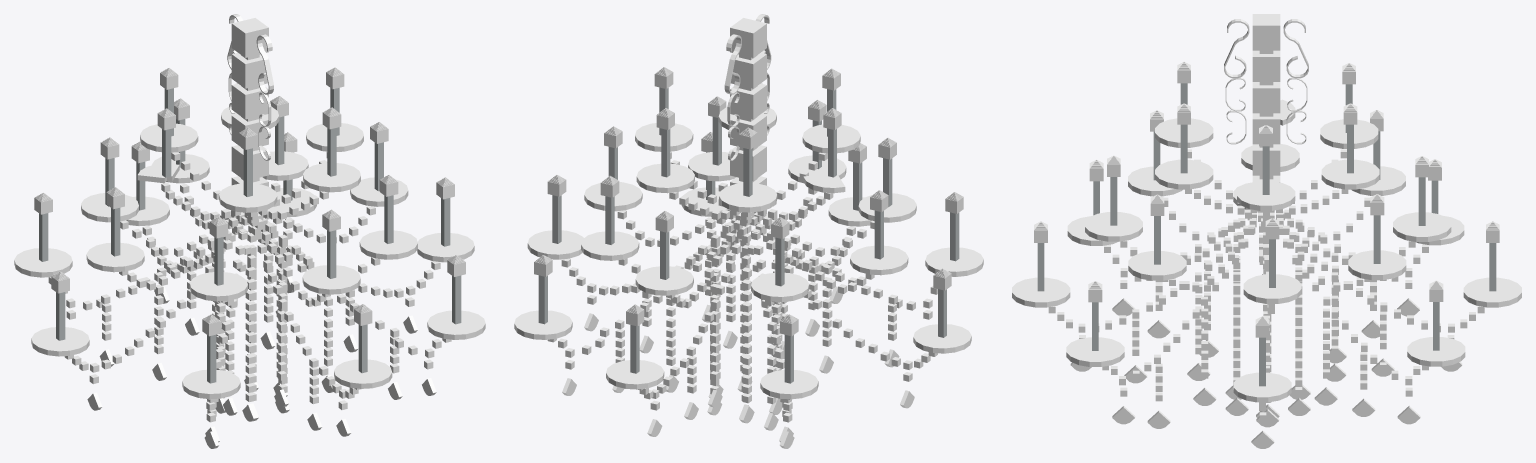
Rendered from chand_on.obj.
3 views of the same model, side by side, from view 1: azimuth 30°, elevation 25°; view 2: azimuth 150°, elevation 25°; view 3: azimuth 270°, elevation 25° (orthographic).
Parts seen in each view (by area): view 1: cube.000, cube.008, cube.001, cube, cube.009, cube.341, cube.586, cube.620, cube.654, cube.240, cube.409, cube.426 (+6 smaller); view 2: cube.000, cube.008, cube.001, cube, cube.009, cube.358, cube.535, cube.552, cube.155, cube.172, cube.307, cube.324 (+4 smaller); view 3: cube.000, cube.008, cube.001, cube, cube.009.
Boxes of the visible parts, x1=… form: cube.000: x1=231, y1=18, x2=268, y2=57; cube.008: x1=231, y1=83, x2=268, y2=119; cube.001: x1=231, y1=53, x2=267, y2=88; cube: x1=231, y1=145, x2=268, y2=179; cube.009: x1=231, y1=114, x2=268, y2=148; cube.341: x1=327, y1=230, x2=336, y2=278; cube.586: x1=39, y1=213, x2=48, y2=261; cube.620: x1=56, y1=292, x2=65, y2=340; cube.654: x1=452, y1=275, x2=461, y2=324; cube.240: x1=327, y1=128, x2=336, y2=176; cube.409: x1=214, y1=237, x2=223, y2=285; cube.426: x1=384, y1=195, x2=393, y2=243; cube.000: x1=730, y1=18, x2=766, y2=57; cube.008: x1=730, y1=83, x2=766, y2=119; cube.001: x1=731, y1=53, x2=766, y2=88; cube: x1=730, y1=145, x2=766, y2=180; cube.009: x1=730, y1=114, x2=766, y2=150; cube.358: x1=775, y1=237, x2=784, y2=286; cube.535: x1=538, y1=275, x2=547, y2=324; cube.552: x1=630, y1=325, x2=639, y2=373; cube.155: x1=661, y1=128, x2=670, y2=177; cube.172: x1=743, y1=148, x2=752, y2=196; cube.307: x1=605, y1=196, x2=614, y2=244; cube.324: x1=660, y1=231, x2=669, y2=279; cube.000: x1=1252, y1=14, x2=1280, y2=50; cube.008: x1=1252, y1=82, x2=1280, y2=113; cube.001: x1=1252, y1=50, x2=1280, y2=81; cube: x1=1252, y1=144, x2=1280, y2=175; cube.009: x1=1252, y1=113, x2=1280, y2=144.
Bounding box in the file's own units: 2.31 × 2.01 × 2.31.
